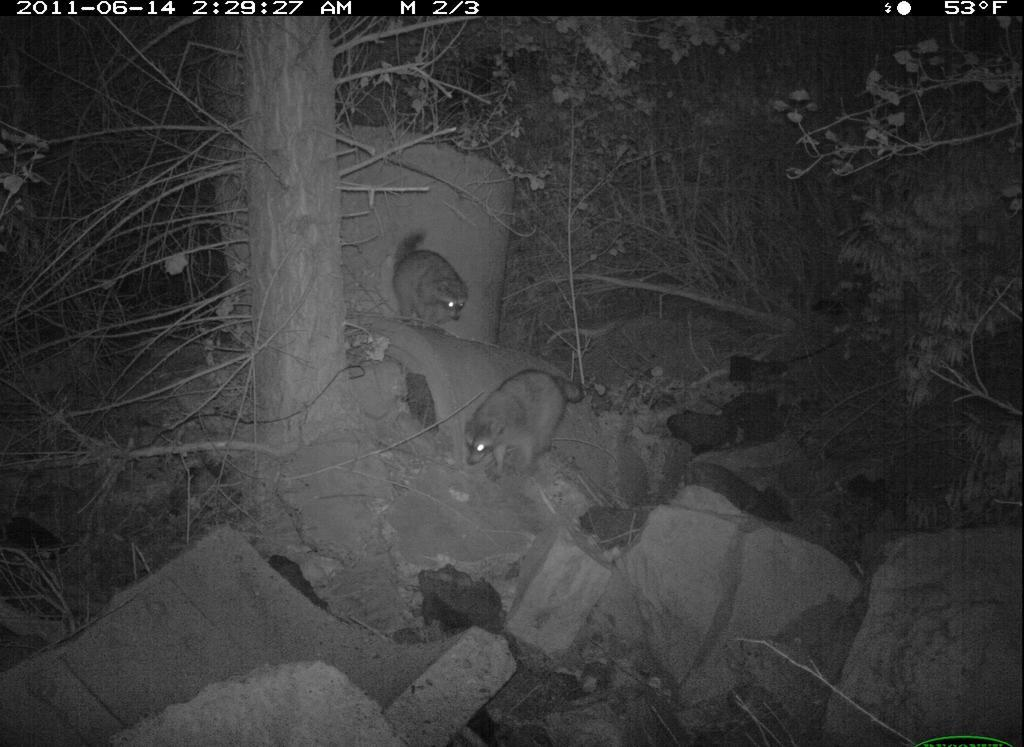raccoon: (455, 361, 593, 489), (382, 223, 475, 338)
